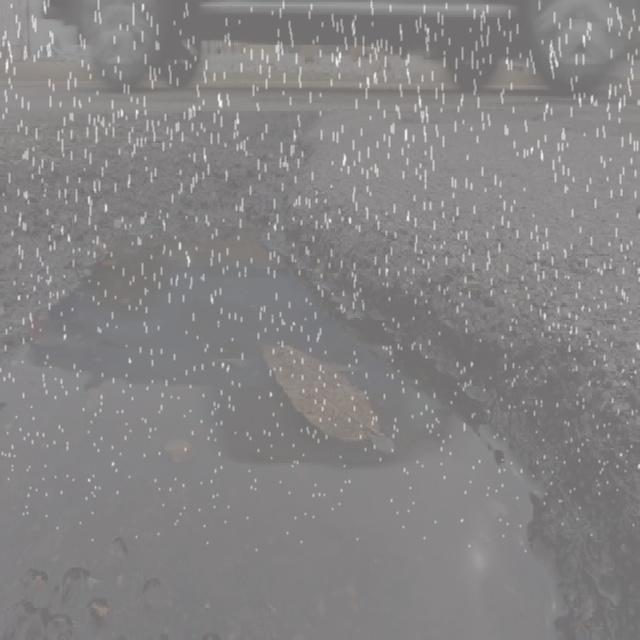Pothole: (10, 182, 572, 471)
